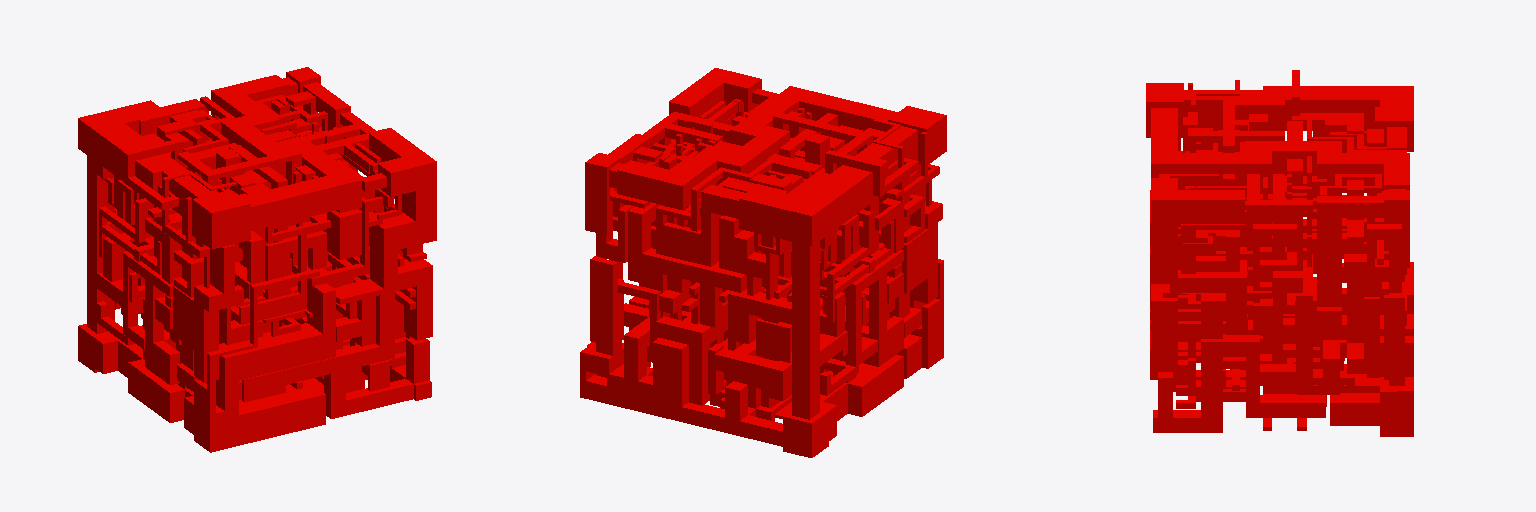
File: quoobrain.obj
3 views of the same model, side by side, from view 1: azimuth 30°, elevation 25°; view 2: azimuth 150°, elevation 25°; view 3: azimuth 270°, elevation 25° (orthographic).
Visible parts, largest first — view 1: Plane; view 2: Plane; view 3: Plane.
Boxes of the visible parts, <box> form: Plane: <box>78,67,436,452</box>; Plane: <box>580,68,946,457</box>; Plane: <box>1146,70,1413,436</box>.
Bounding box in the file's own units: 16.92 × 16.7 × 16.04.